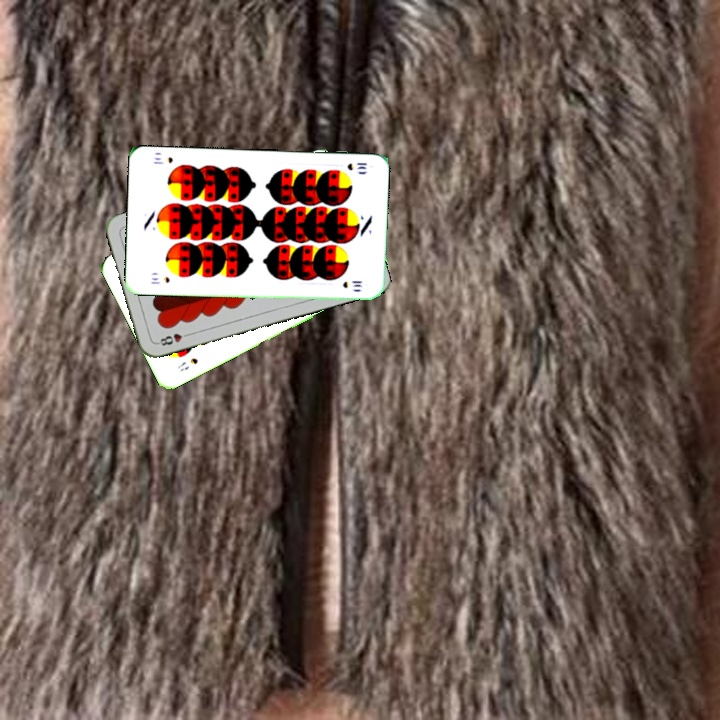H8: (153, 329, 193, 348)
S10: (343, 159, 369, 173), (147, 273, 172, 287)
S8: (174, 354, 201, 374)
